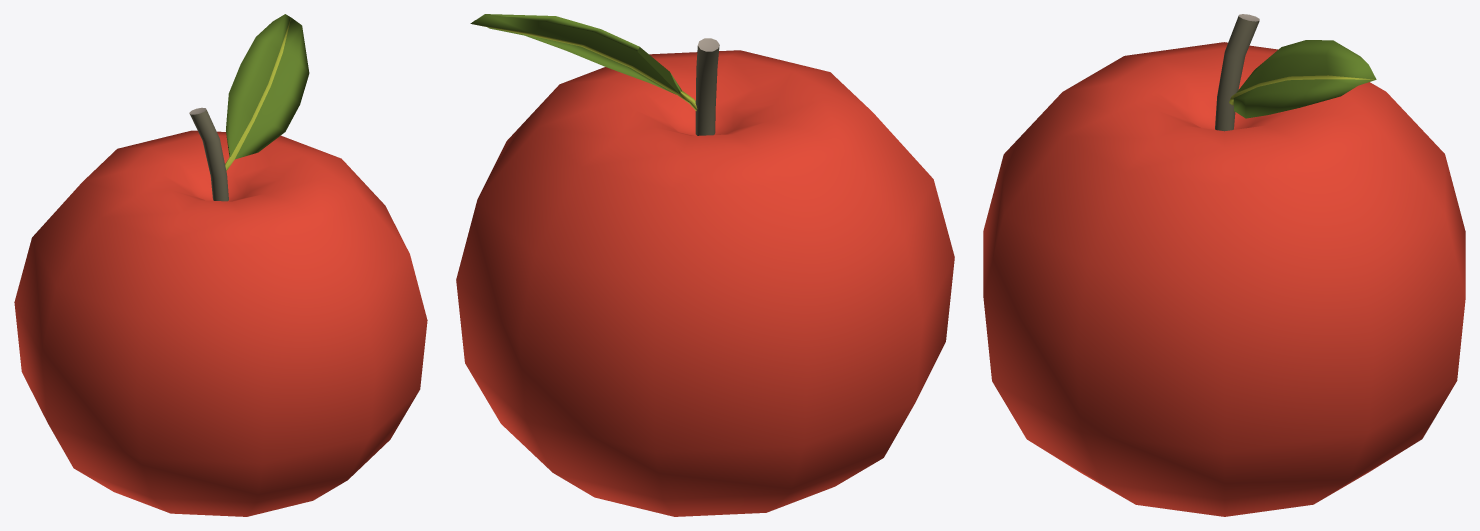
Rendered from SM_Fruits_Apple_R1.fbx.
The picture shows the model from 3 angles, left to right: view 1: azimuth 30°, elevation 25°; view 2: azimuth 150°, elevation 25°; view 3: azimuth 270°, elevation 25°; orthographic projection. The views are drawn at different scales.
Parts seen in each view (by area): view 1: SM_Fruits_Apple_R1; view 2: SM_Fruits_Apple_R1; view 3: SM_Fruits_Apple_R1.
Part boxes in pixels (x1,y1,x2,y2): SM_Fruits_Apple_R1: (14,14,427,516); SM_Fruits_Apple_R1: (456,14,954,516); SM_Fruits_Apple_R1: (983,14,1465,516).
Bounding box in the file's own units: 14.48 × 15.05 × 13.78.
